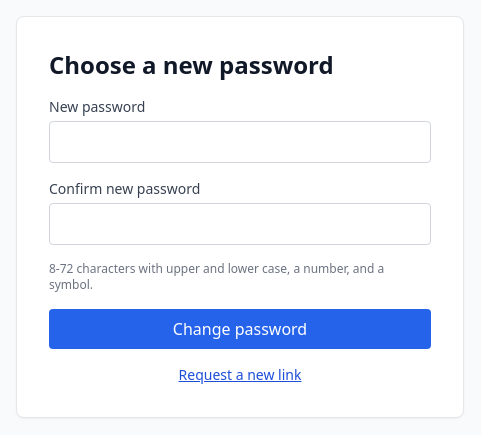
Test: reset password › sends the token from the link fragment with the new password
The width and height of the screenshot is (481, 435).
Step 1. Type "N3w!Passw0rd" into the password field labelled "New password" → point(240, 142), box [49,121,431,163]
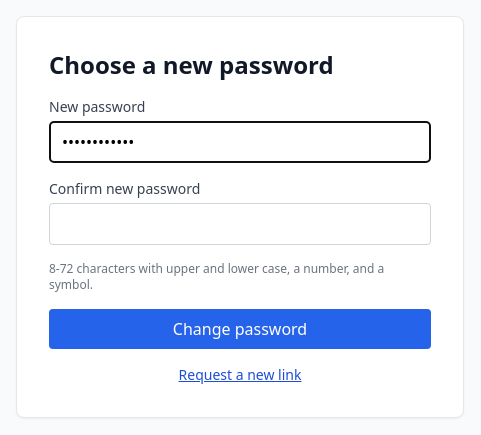
Step 2. Type "N3w!Passw0rd" into the password field labelled "Confirm new password" → point(240, 224), box [49,203,431,245]
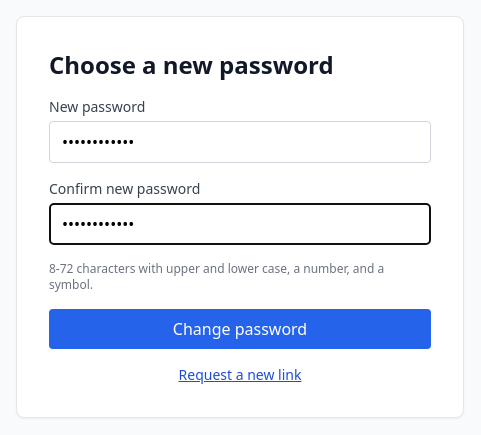
Step 3. Click the button "Change password" → point(240, 329), box [49,309,431,349]
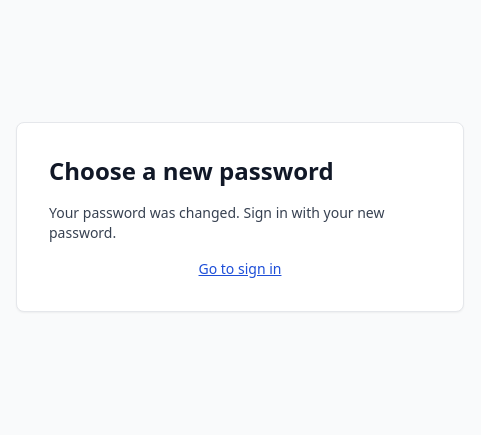
Expected: the message shows "Your password was changed", [49,203,384,242]
Expected: the link "Go to sign in" is shown, [198,259,282,278]
